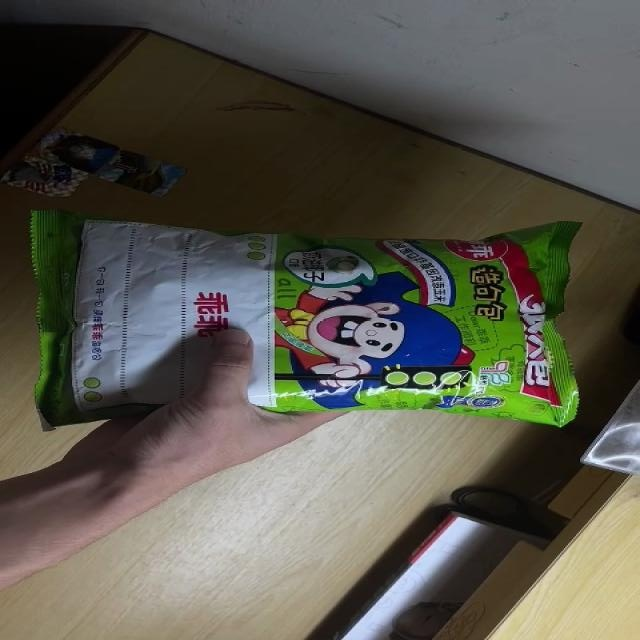Good-Luck: (35, 212, 588, 429)
